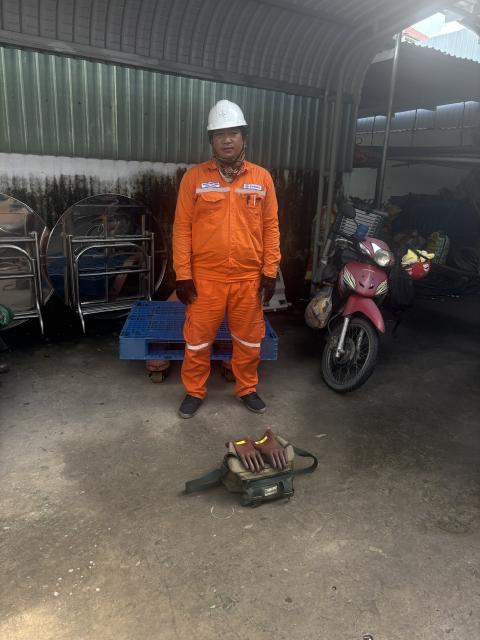gloves: (174, 272, 202, 308), (252, 267, 278, 301)
helmet: (191, 90, 254, 135)
shoes: (236, 385, 267, 414), (177, 390, 201, 419)
